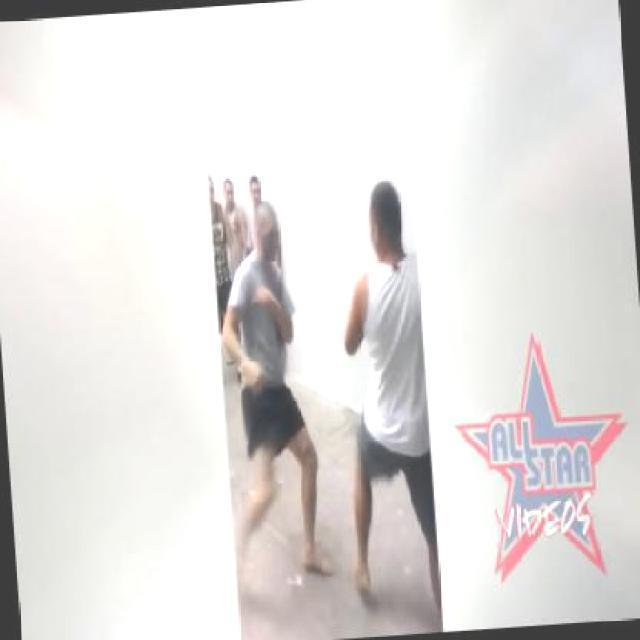fight: (216, 182, 438, 607)
